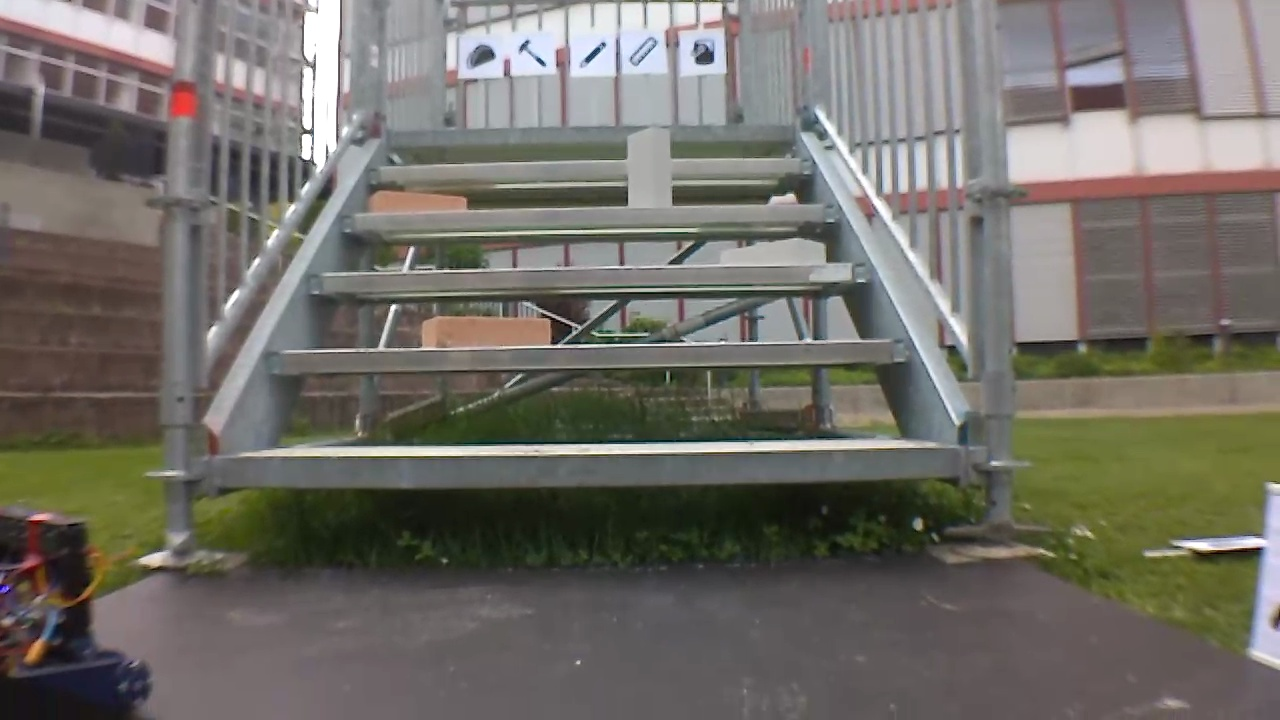brick: (422, 317, 551, 346), (628, 126, 671, 206), (369, 190, 465, 212)
bucket: (687, 35, 721, 70)
edge: (221, 448, 961, 486), (266, 339, 909, 369), (310, 263, 874, 289), (341, 203, 838, 228), (369, 158, 814, 179), (386, 125, 795, 143)
hammer: (513, 35, 551, 70)
pencil: (572, 37, 612, 71)
ruler: (626, 33, 659, 69)
stairs: (144, 2, 1034, 559)
steps: (218, 121, 966, 495)
taco: (461, 42, 499, 72)
